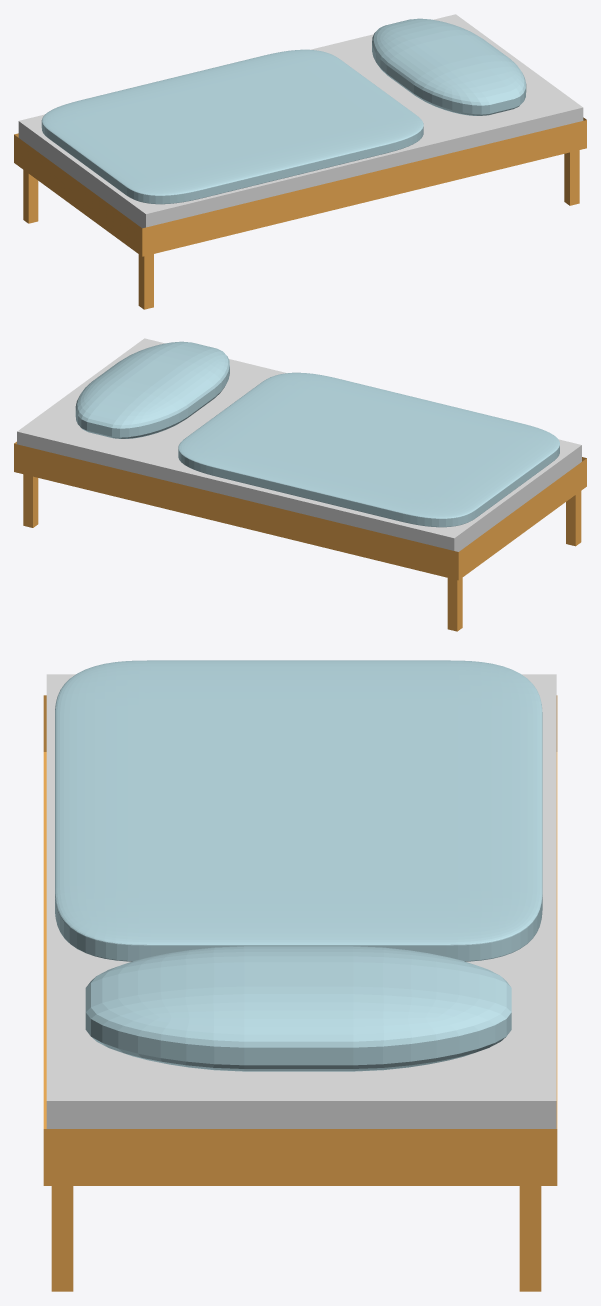
Rendered from Bett.fbx.
The picture shows the model from 3 angles, top to bottom: view 1: azimuth 30°, elevation 25°; view 2: azimuth 150°, elevation 25°; view 3: azimuth 270°, elevation 25°; orthographic projection. The views are drawn at different scales.
Visible parts, largest first — view 1: Cube.003; view 2: Cube.003; view 3: Cube.003.
Boxes of the visible parts, x1,y1,x2,y2 form: Cube.003: [14, 14, 586, 309]; Cube.003: [14, 338, 586, 631]; Cube.003: [43, 660, 557, 1291].
Size of the model in its own units: 400 by 107 by 200.
